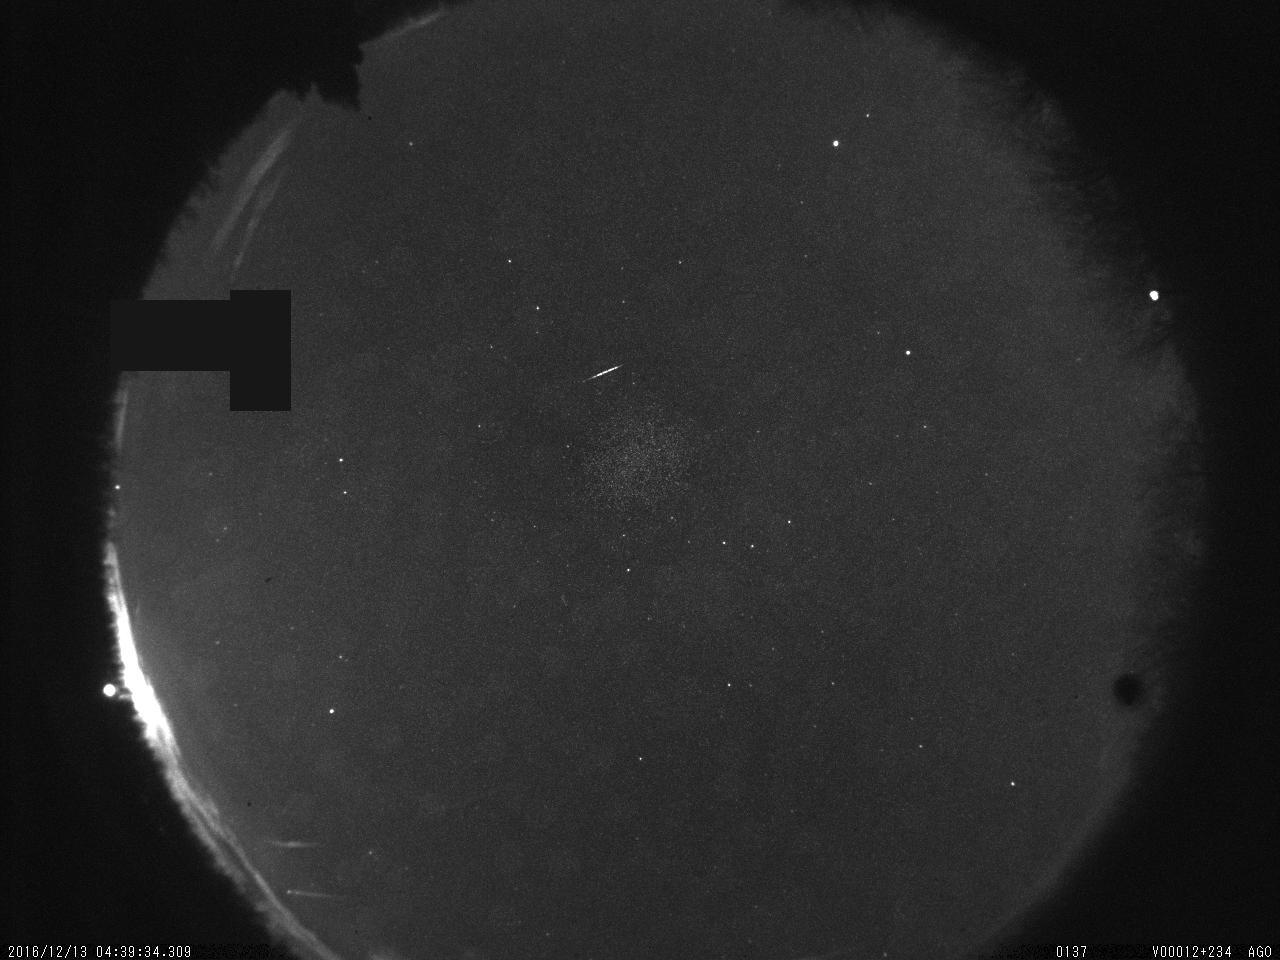meteor: (549, 352, 637, 397)
